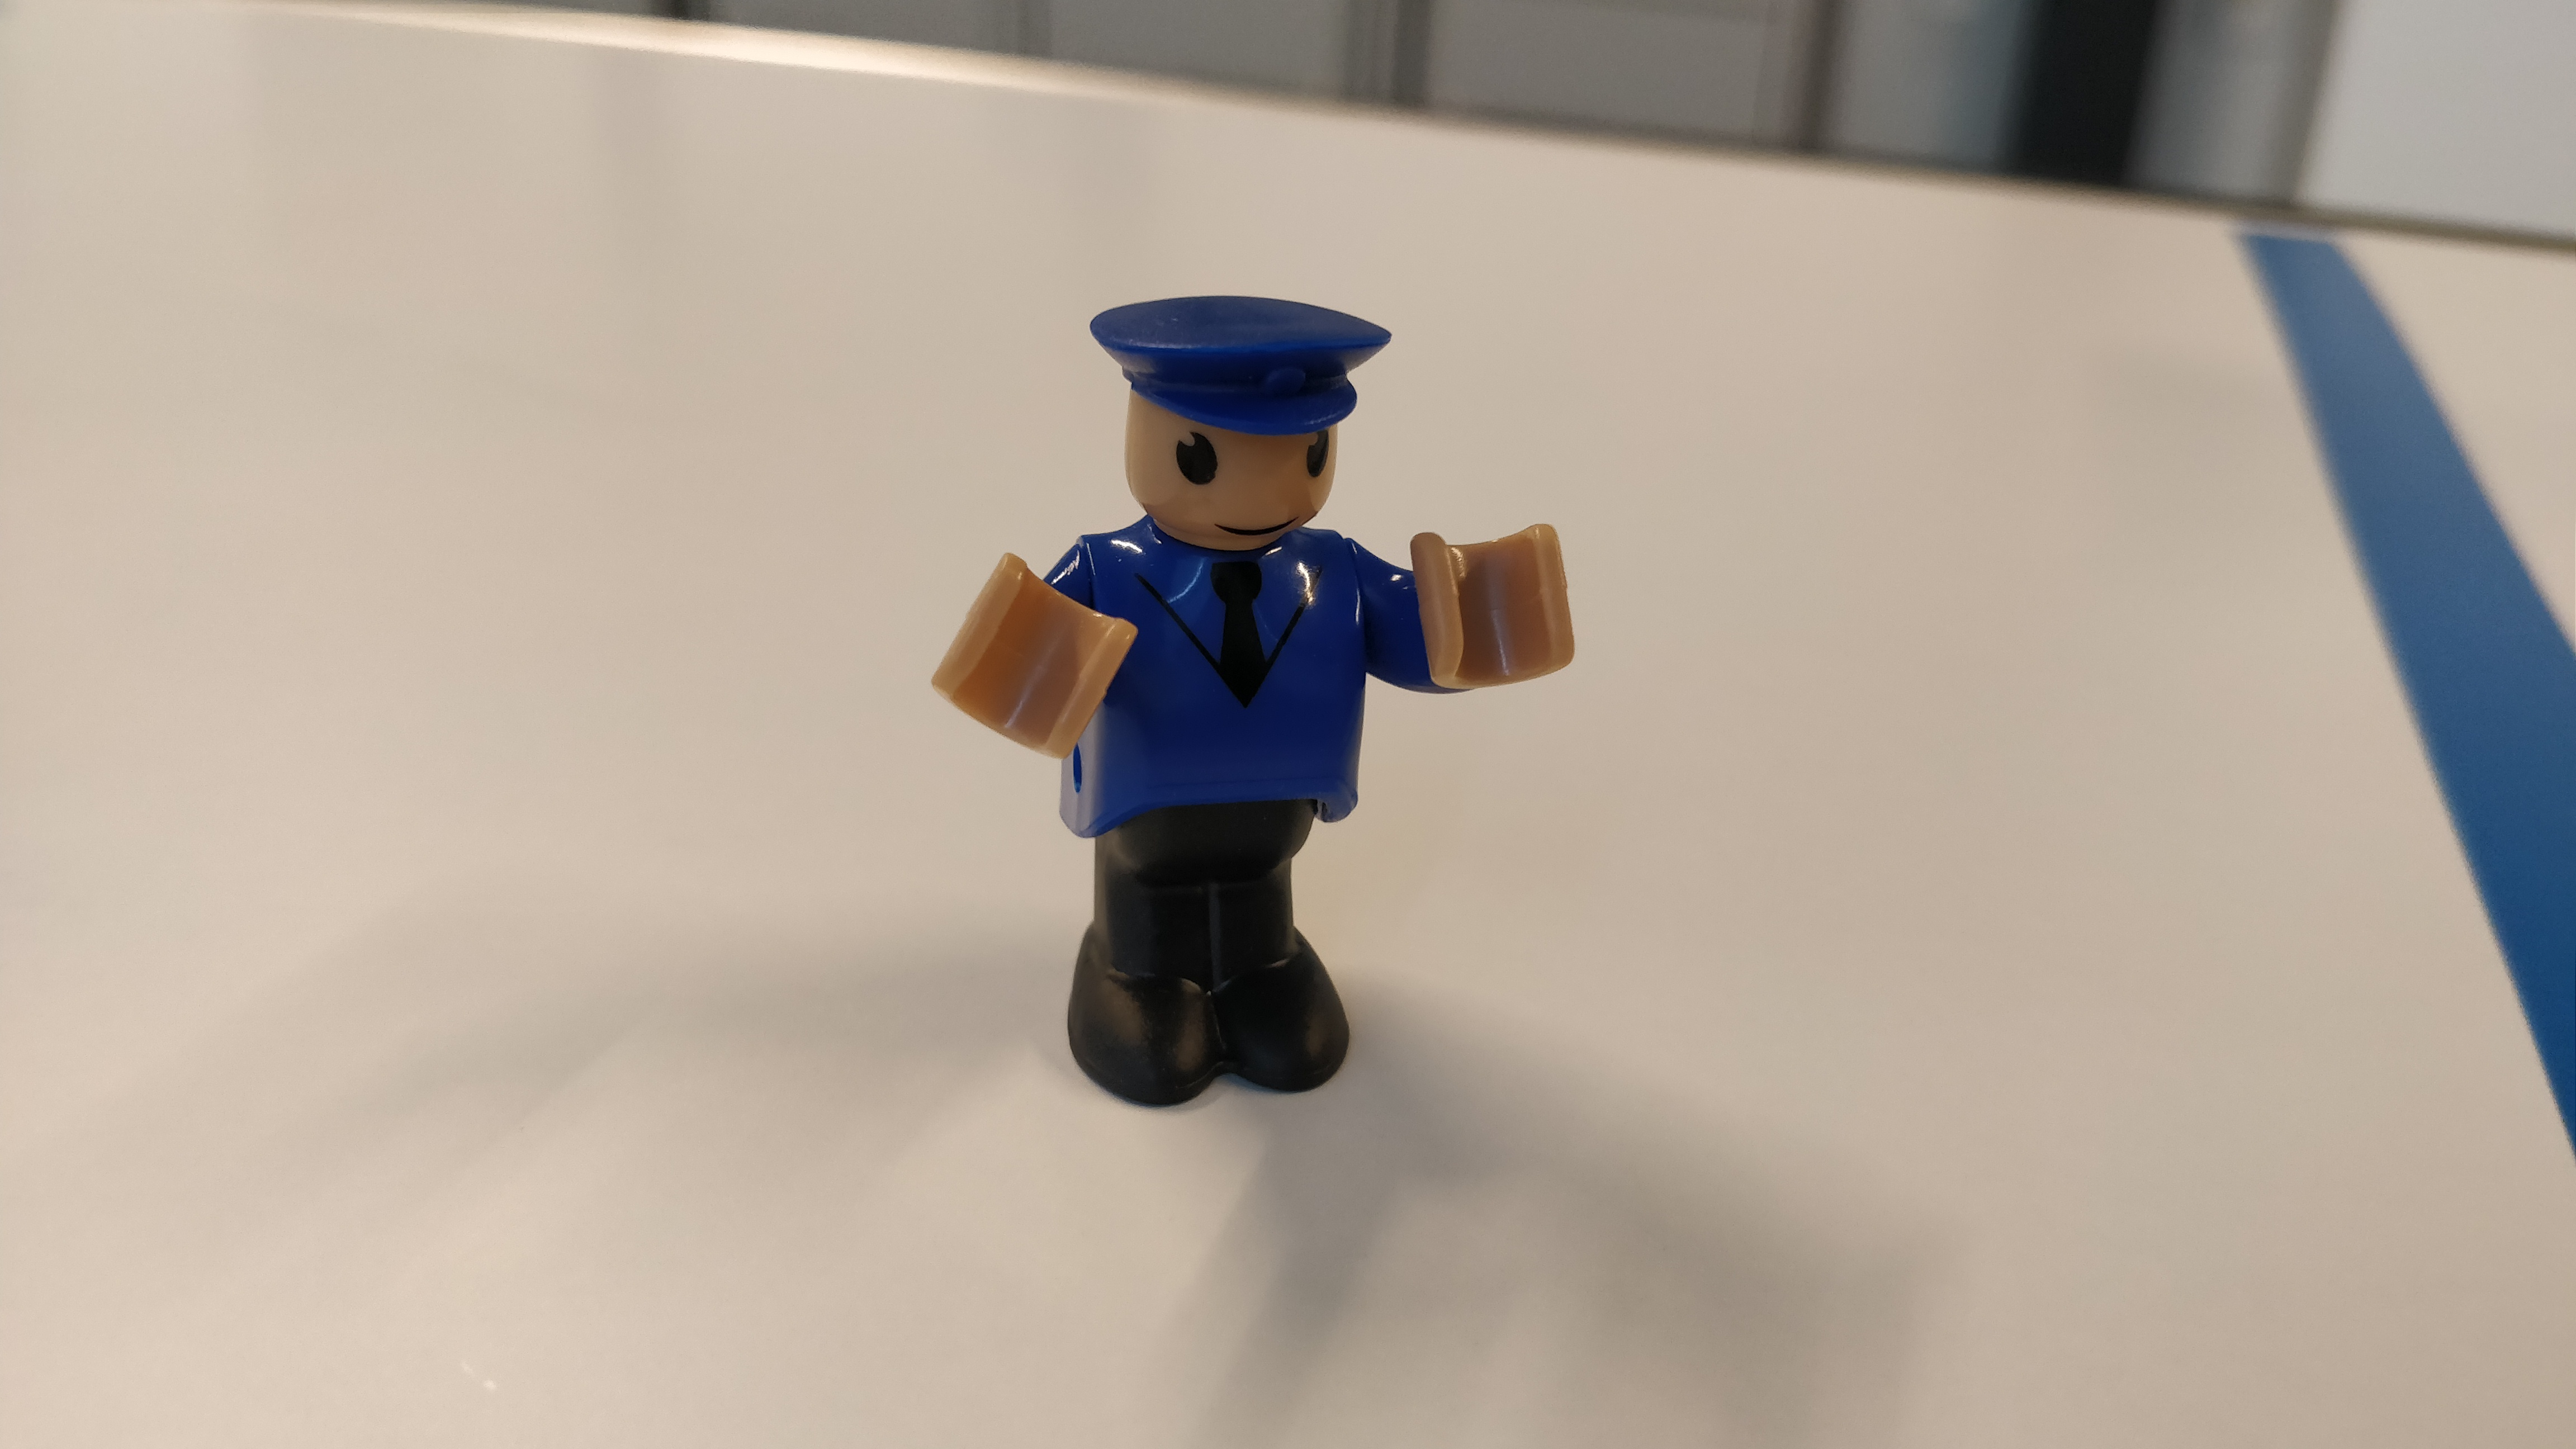Person: (911, 291, 1584, 1120)
